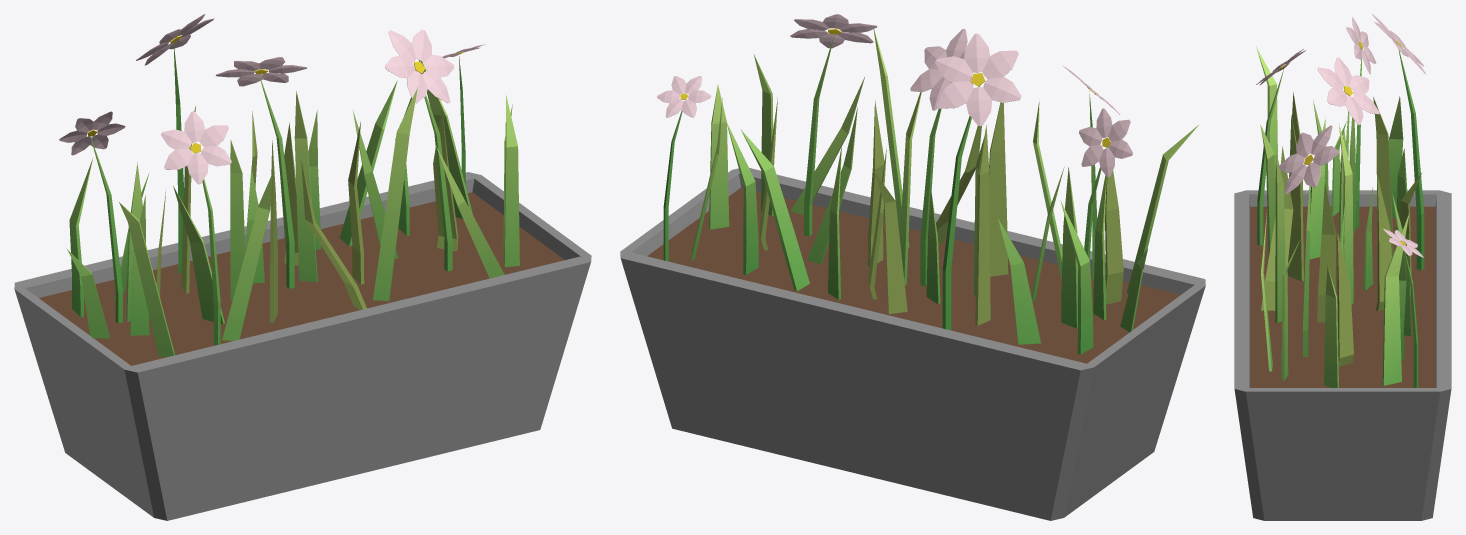
Rendered from Plant_07.fbx.
The picture shows the model from 3 angles, left to right: view 1: azimuth 30°, elevation 25°; view 2: azimuth 150°, elevation 25°; view 3: azimuth 270°, elevation 25°; orthographic projection. The views are drawn at different scales.
Visible parts, largest first — view 1: Plant_07; view 2: Plant_07; view 3: Plant_07.
Boxes of the visible parts, bbox=[...] form: Plant_07: bbox=[14, 14, 591, 520]; Plant_07: bbox=[620, 14, 1205, 520]; Plant_07: bbox=[1234, 14, 1451, 520].
Bounding box in the file's own units: 45.54 × 40.08 × 20.73.
